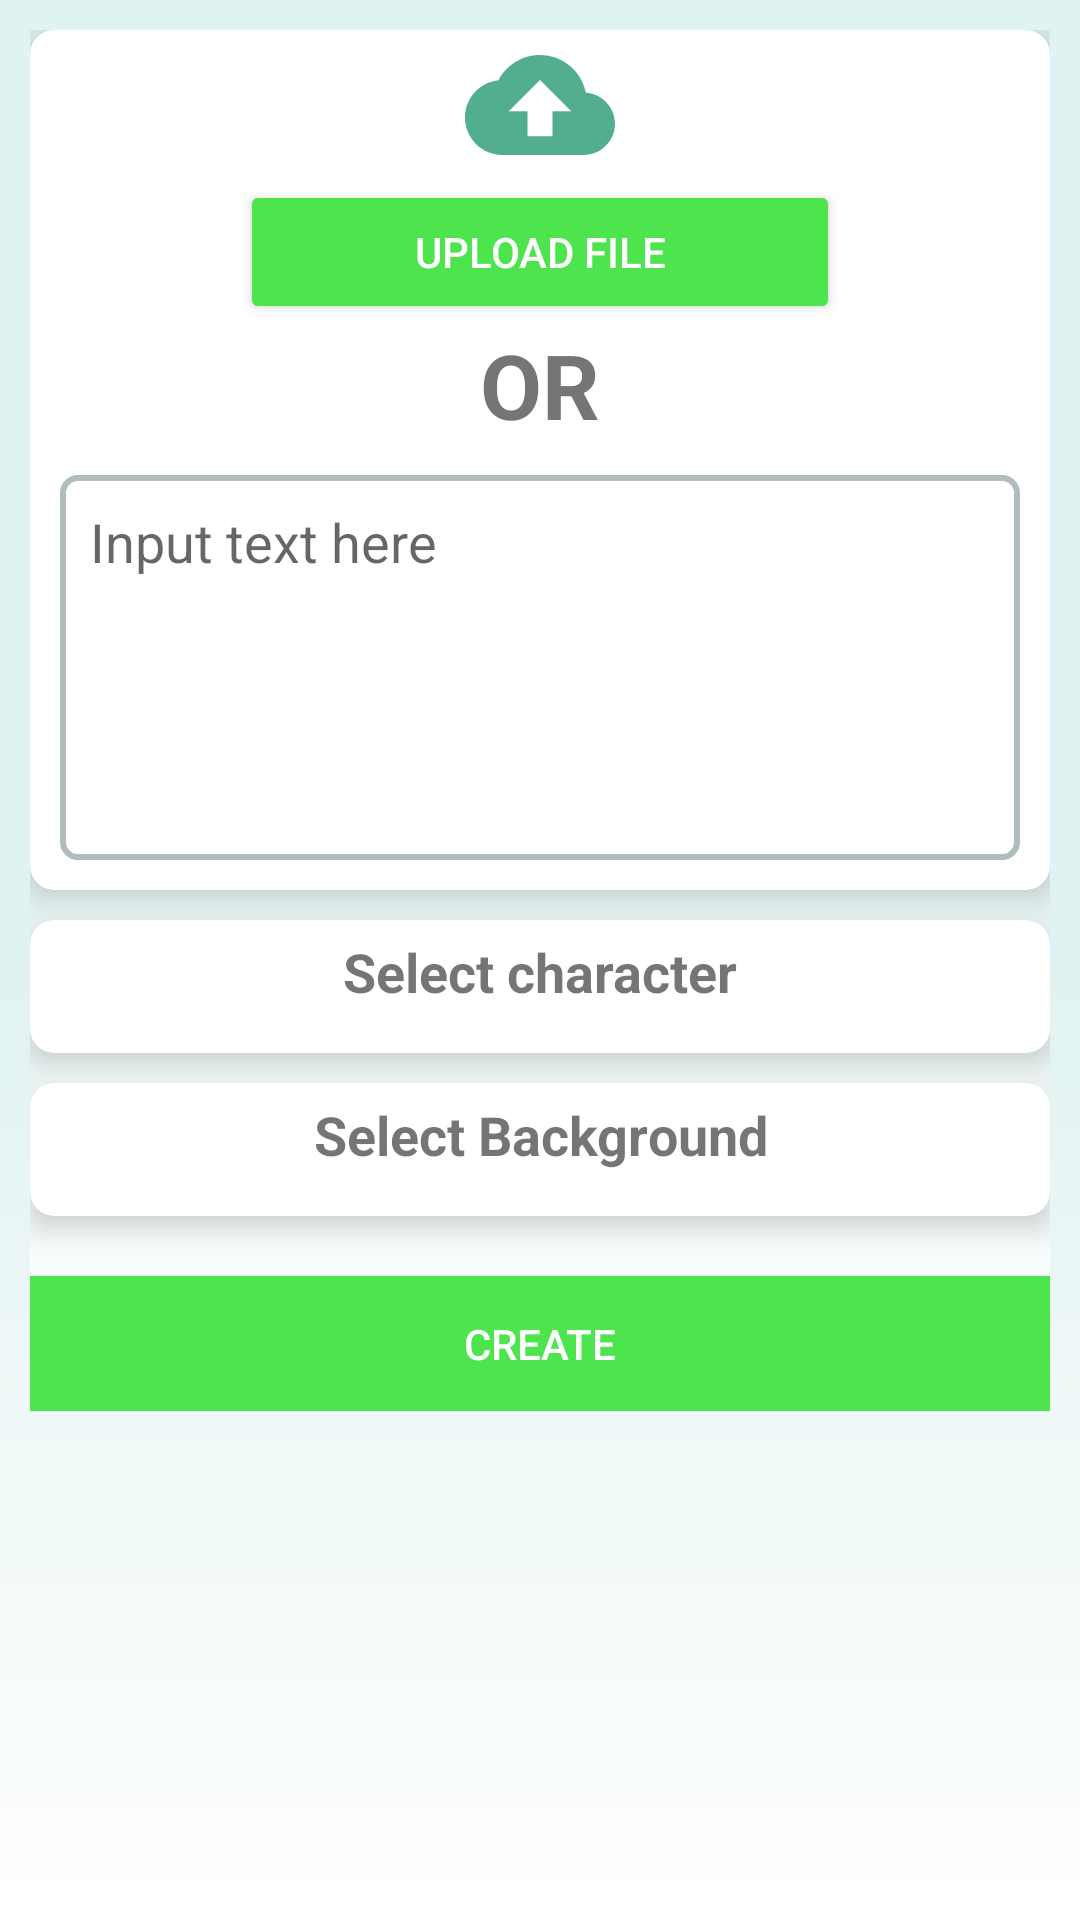

Named icons in this screenshot (1080x1920) and their bounding boxes, (x1=x1, y1=y1, x2=x2, y2=y2):
cloud upload: (x1=465, y1=55, x2=615, y2=155)
